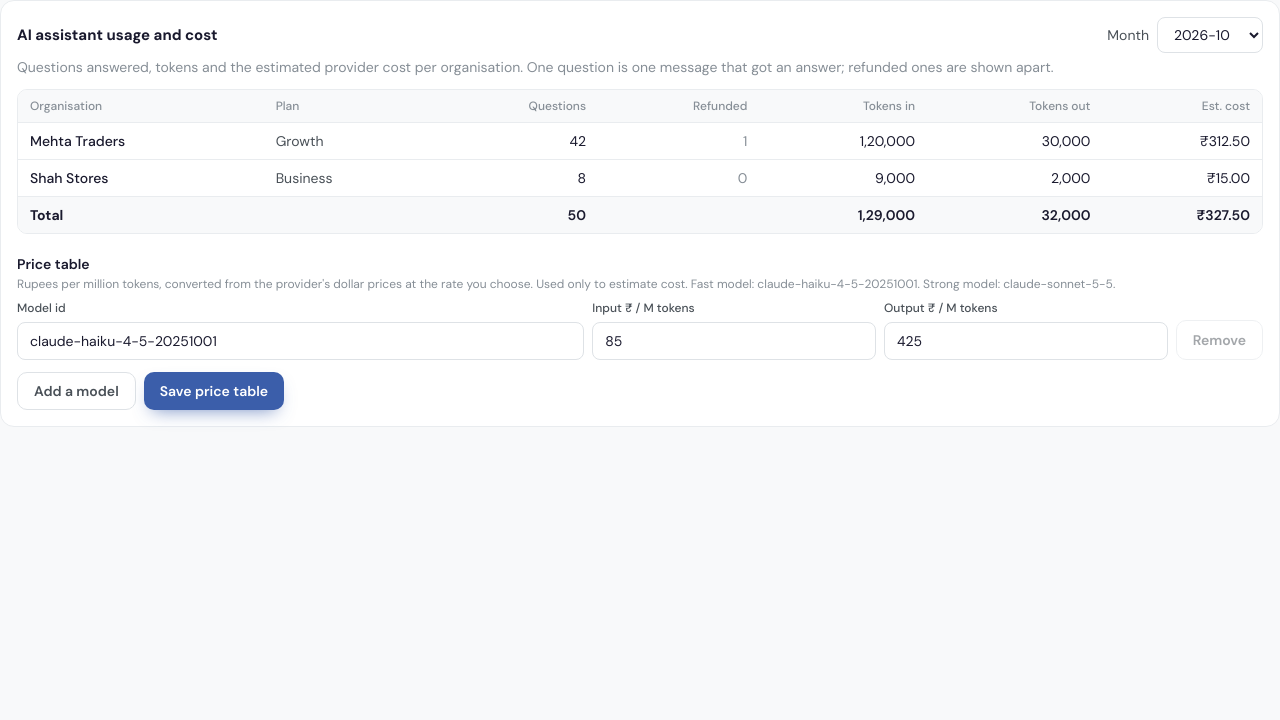
Scenario: AiAdminSection › can add a model and refuses a duplicate or empty id
The image size is (1280, 720).
Click the button "Add a model".
click(76, 391)  # box [17,372,136,410]
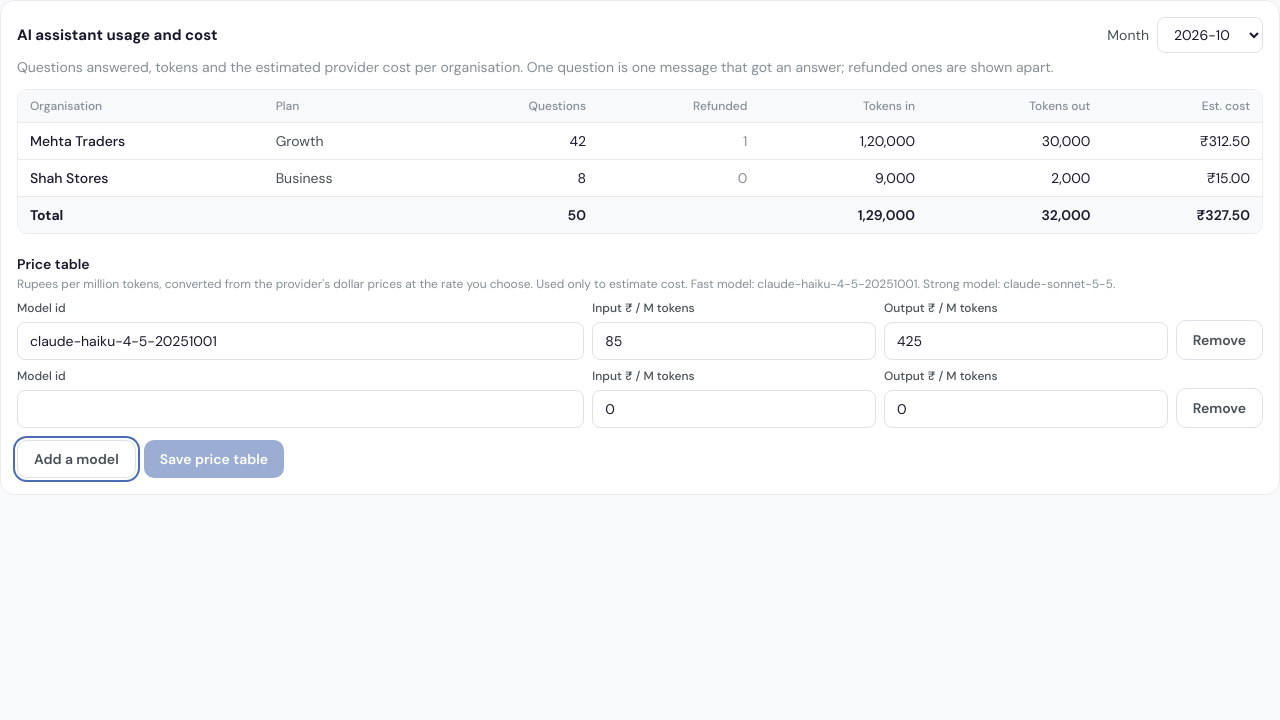
Result: the button "Save price table" is disabled at [144,440,284,478]
Type "claude-haiku-4-5-20251001" into the 2nd field labelled "Model id".
click(301, 409); type("claude-haiku-4-5-20251001")  # box [17,390,584,428]
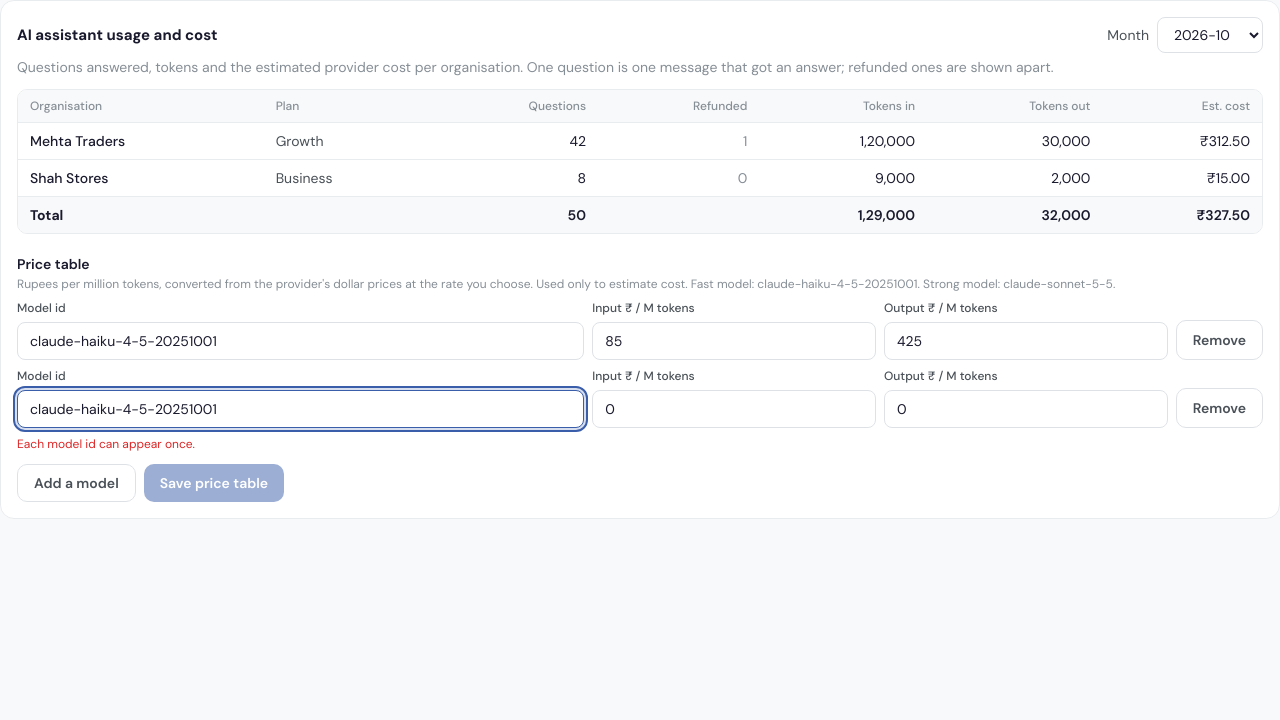
Result: the button "Save price table" is disabled at [144,464,284,502]
Result: the text "Each model id can appear once." is shown at [17,436,195,452]
